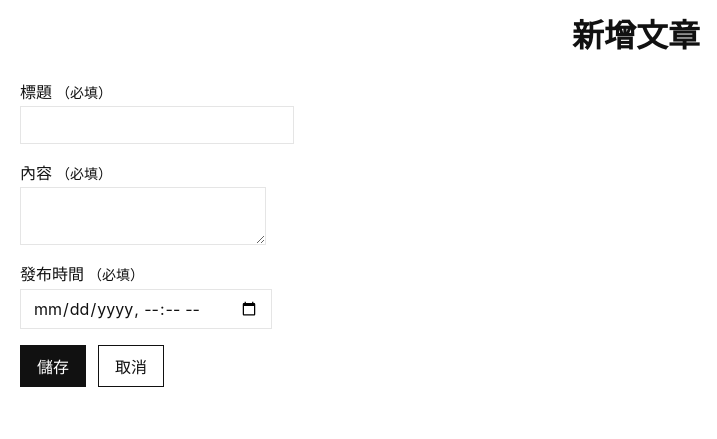
Test case: ArticleForm › AC8: 後端回 422 時顯示通用的「輸入無效」訊息,不導向,欄位資料保留
Expected: the heading "新增文章" is shown, x1=572 y1=16 x2=700 y2=55
Type "我的標題" into the field labelled "標題" at (157, 125), box x1=20 y1=106 x2=294 y2=144
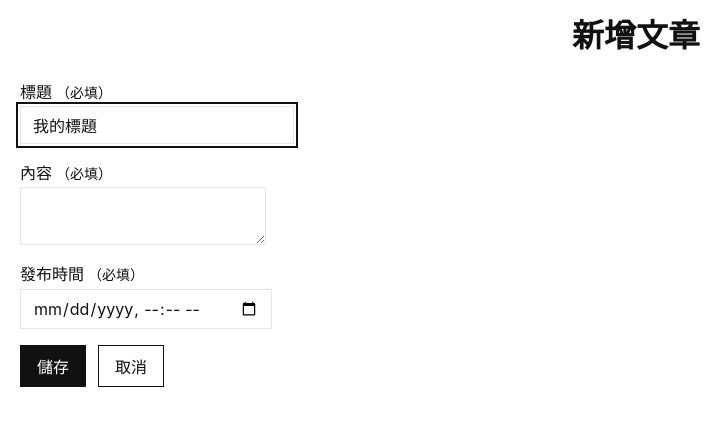
Type "我的內容" into the text box labelled "內容" at (143, 216), box x1=20 y1=187 x2=266 y2=245
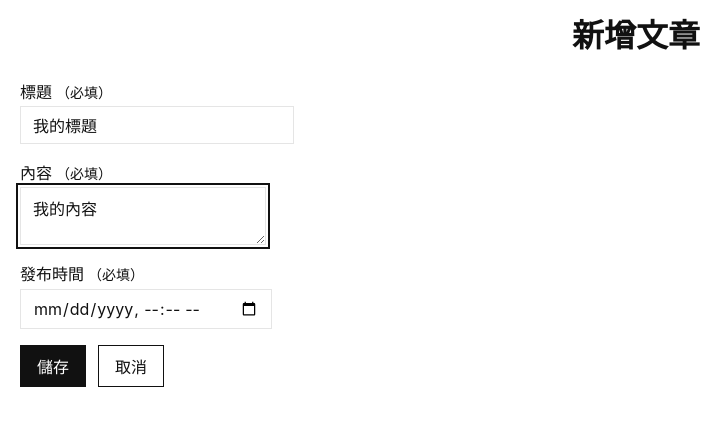
Type "2026-08-13T10:00" into the field labelled "發布時間" at (146, 309), box x1=20 y1=289 x2=272 y2=329
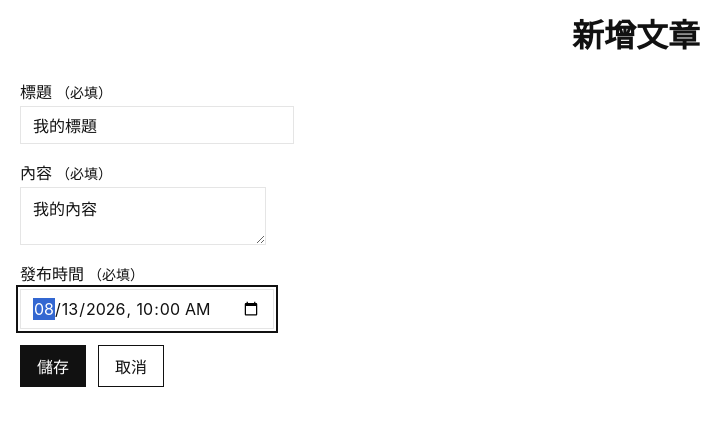
Click the button "儲存" at (53, 366), box x1=20 y1=345 x2=86 y2=387
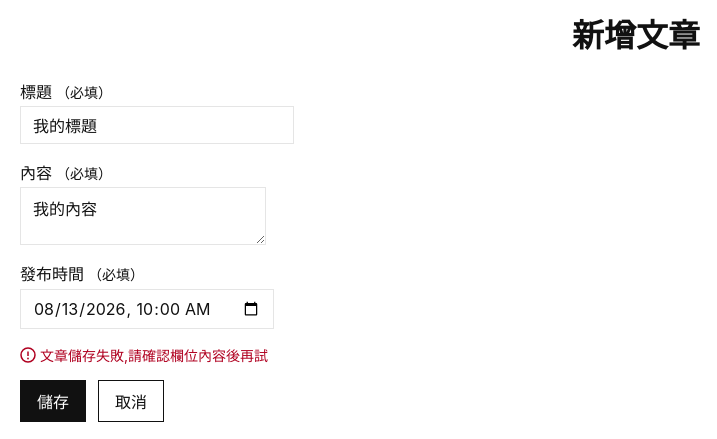
Expected: the heading "新增文章" is shown, x1=572 y1=16 x2=700 y2=55
Now the message reads "文章儲存失敗,請確認欄位內容後再試", box x1=40 y1=347 x2=268 y2=364
